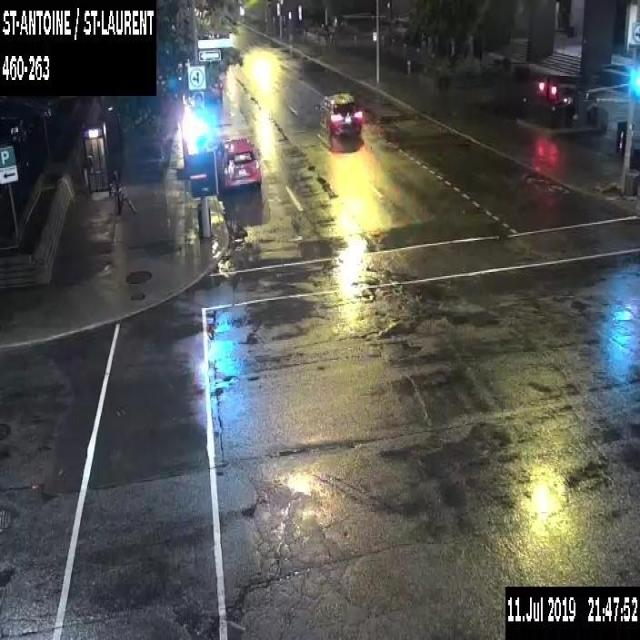vehicle: (215, 134, 261, 192), (318, 91, 363, 137), (0, 93, 53, 123), (0, 111, 27, 145), (204, 77, 222, 99)
